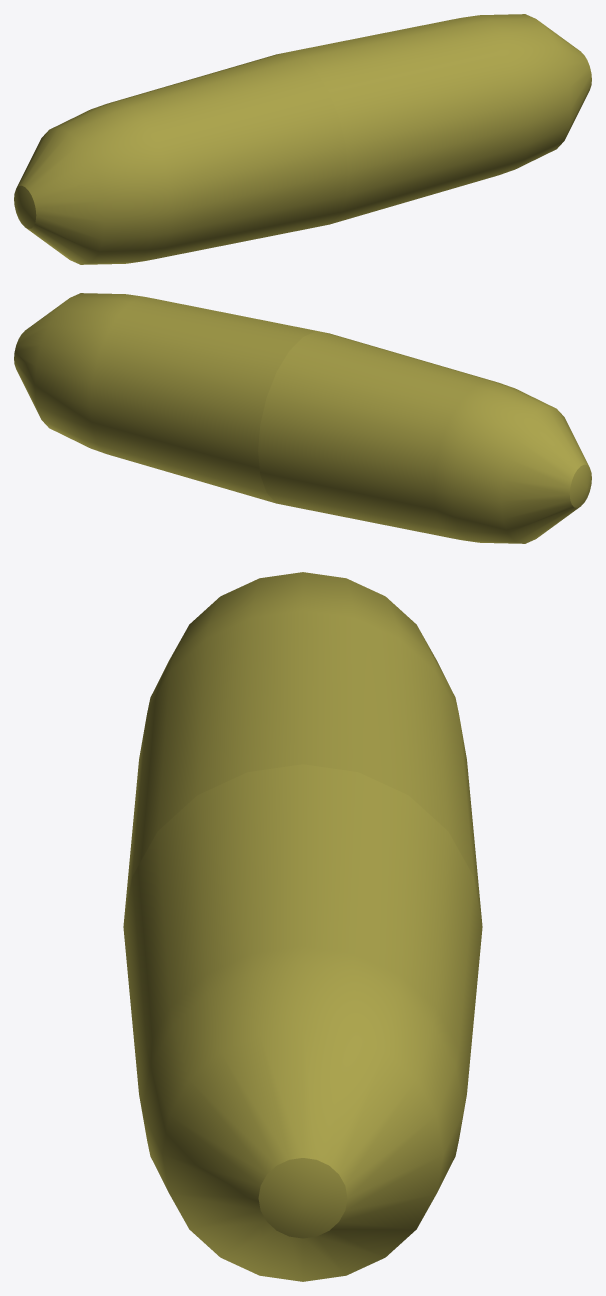
The model's file is fueltank2.fbx.
The picture shows the model from 3 angles, top to bottom: view 1: azimuth 30°, elevation 25°; view 2: azimuth 150°, elevation 25°; view 3: azimuth 270°, elevation 25°; orthographic projection. The views are drawn at different scales.
Visible parts, largest first — view 1: pCylinder5; view 2: pCylinder5; view 3: pCylinder5.
Part boxes in pixels (x1,y1,x2,y2): pCylinder5: [14, 14, 591, 264]; pCylinder5: [14, 293, 591, 543]; pCylinder5: [123, 572, 482, 1281].
Size of the model in its own units: 8.18 by 2.24 by 2.24.
